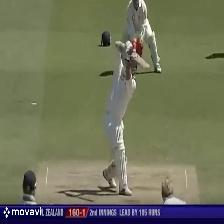batsman: (105, 37, 150, 195)
